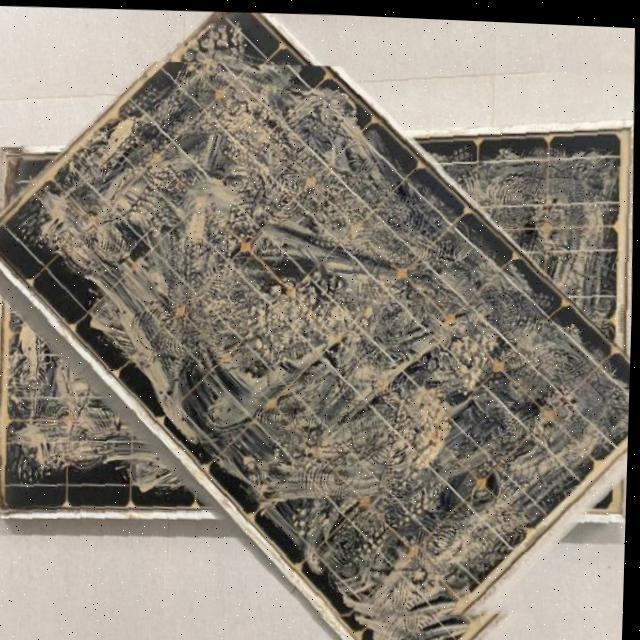Anomaly Solar Panel: (0, 9, 632, 640)
Surface Contaminant: (3, 10, 632, 640), (416, 139, 623, 342), (4, 300, 200, 493)
